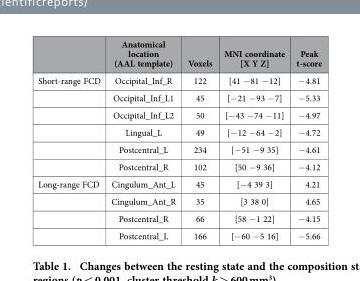table: (37, 37, 321, 241)
table column: (105, 37, 181, 241), (217, 37, 289, 241), (37, 37, 105, 241), (181, 37, 217, 241), (289, 37, 321, 241)
table column header: (37, 37, 321, 71)
table row: (37, 37, 321, 71), (37, 105, 321, 123), (37, 174, 321, 192), (37, 71, 321, 88), (37, 88, 321, 105), (37, 123, 321, 140), (37, 140, 321, 157), (37, 157, 321, 174), (37, 192, 321, 209), (37, 209, 321, 226), (37, 226, 321, 241)
table spanning cell: (37, 71, 105, 174), (37, 174, 105, 241)
